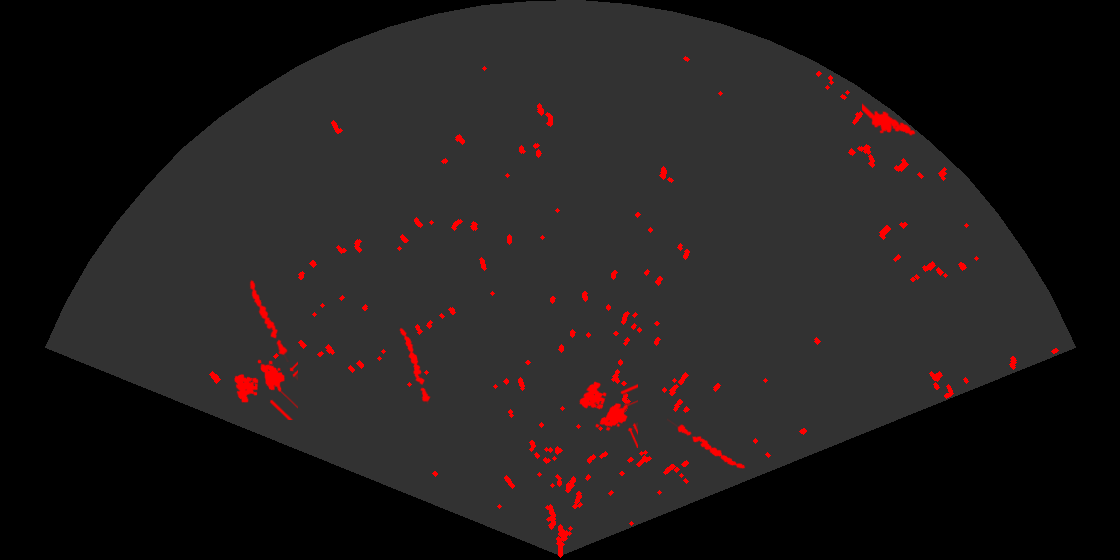cage: (578, 380, 638, 448), (233, 358, 298, 420)
chain: (667, 417, 747, 470), (248, 278, 290, 362), (398, 326, 432, 404)
frogman: (862, 101, 917, 137)
